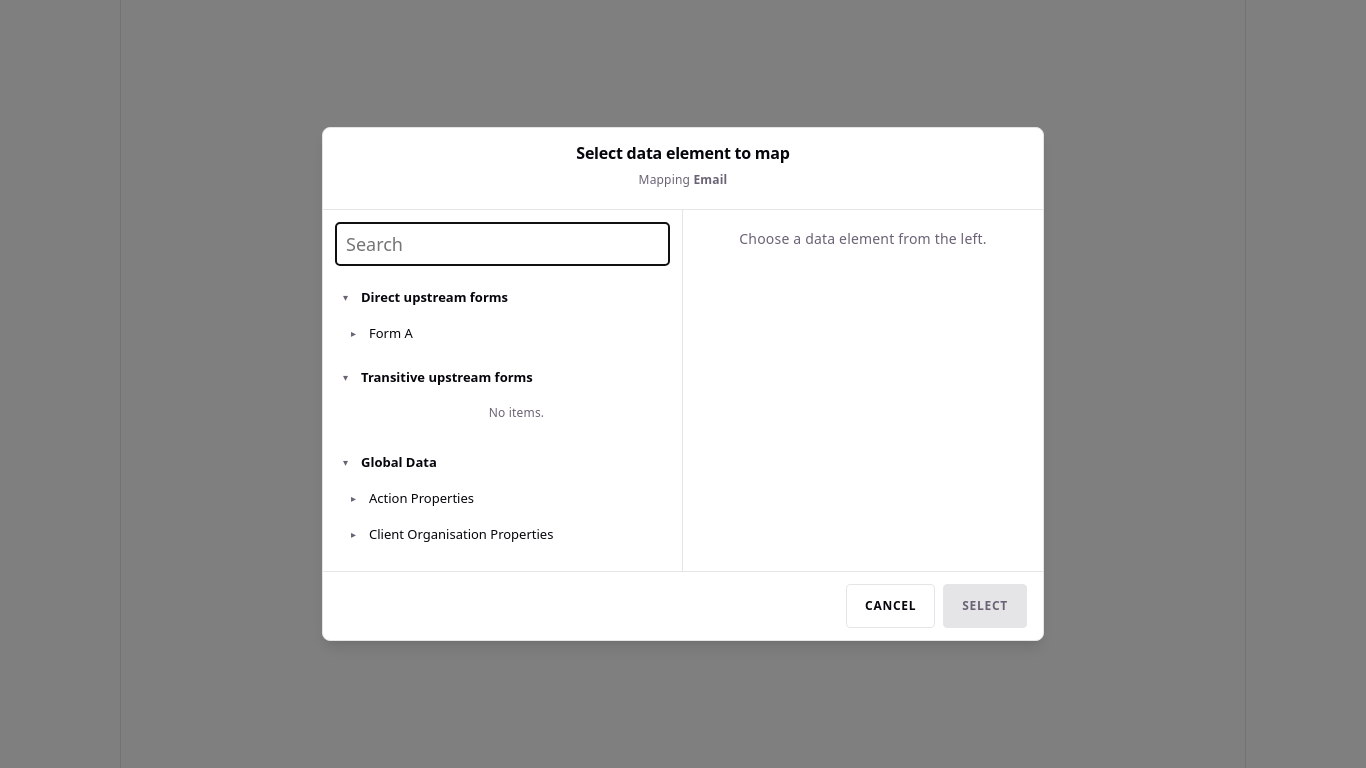
it: DataPickerModal › search filters out non-matching providers
Type "launchedBy" into the search field with placeholder "Search" at (502, 244), box [335,222,670,266]
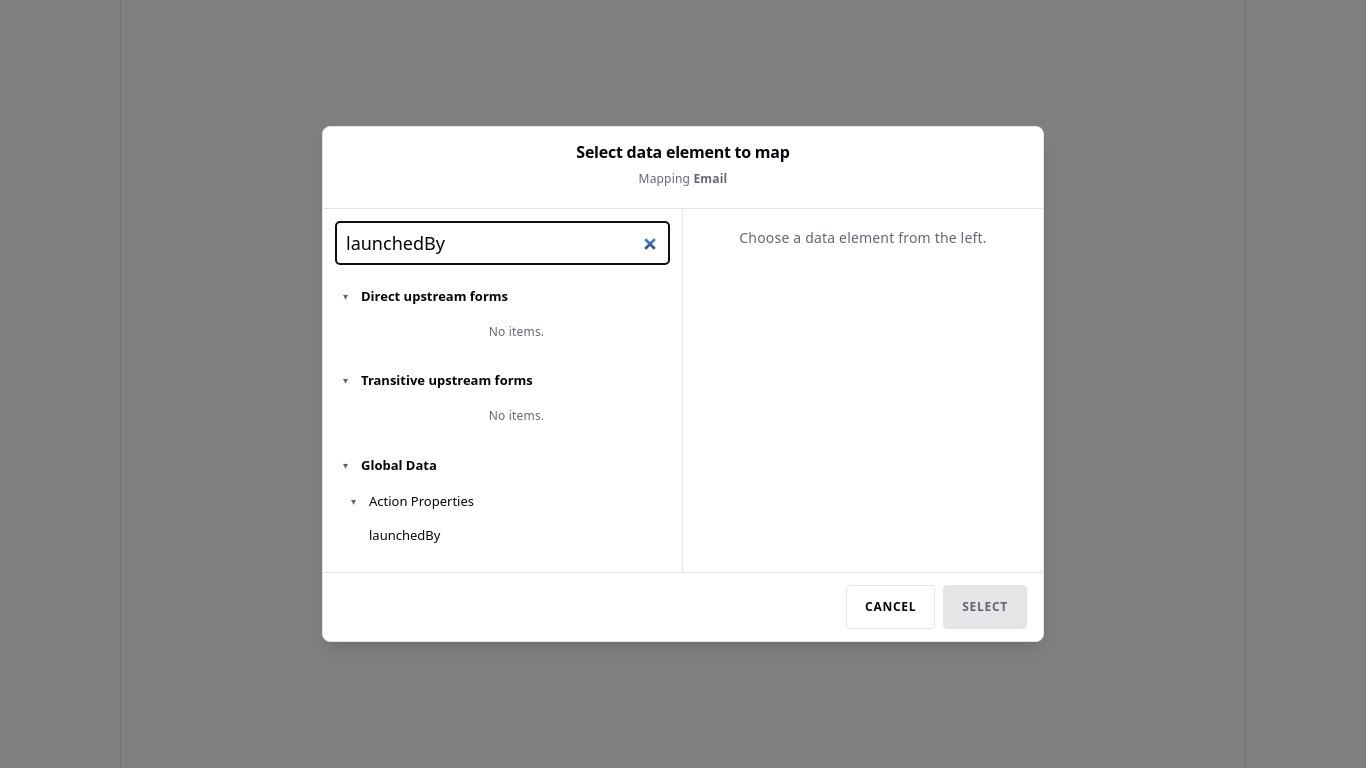
Expected: the button "launchedBy" is shown, [361,518,670,552]
